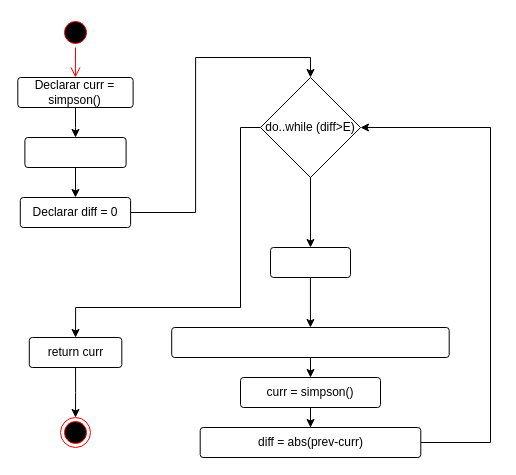
The diagram is 516 pixels wide and 475 high, and some of its shapes have lost their labels. Here are the shapes that lost their labels. From the top down, the box of each, then its label:
(24, 136, 126, 168): Declarar prev = 0
(270, 246, 350, 278): prev = curr
(171, 326, 449, 358): setNumSegemntos(getNumSegmentos()*2)
